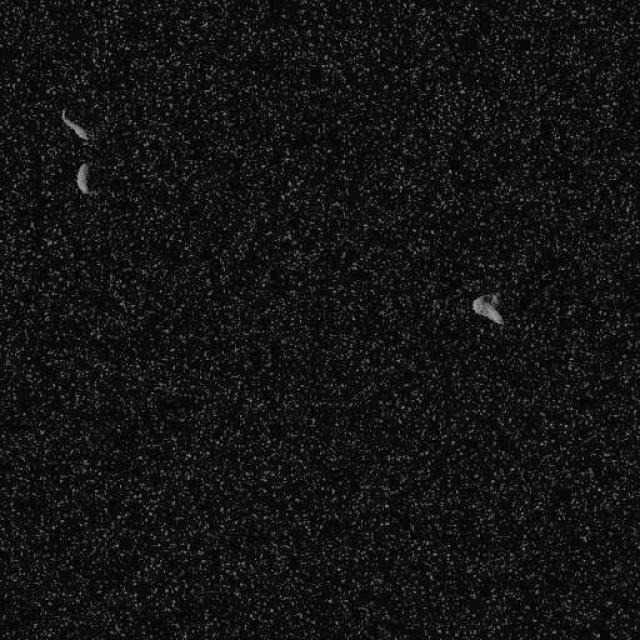D2: (470, 291, 505, 325), (59, 108, 91, 142), (74, 160, 91, 195)
